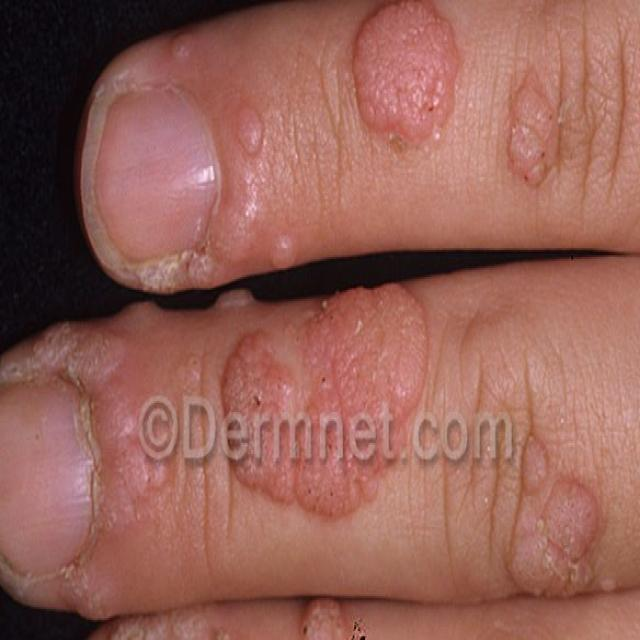Warts: (221, 292, 441, 515), (34, 333, 167, 562), (347, 5, 488, 180), (518, 402, 617, 599), (231, 78, 293, 287), (505, 61, 563, 225), (292, 583, 372, 640)
